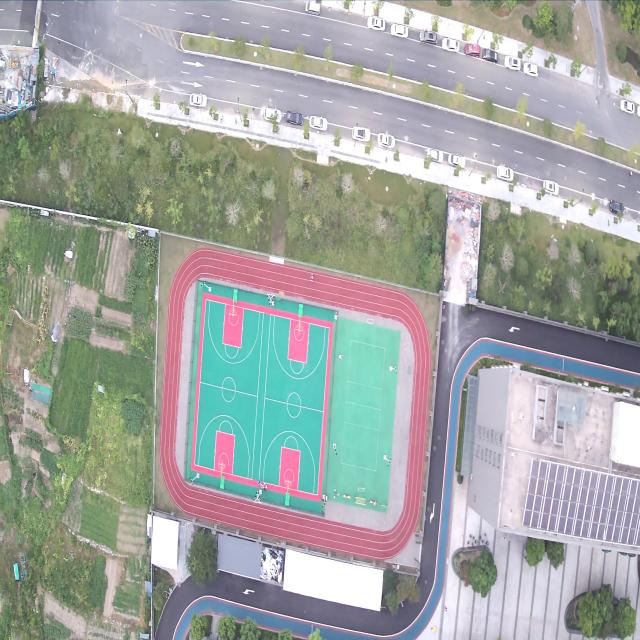UAV: (400, 339, 408, 350)
